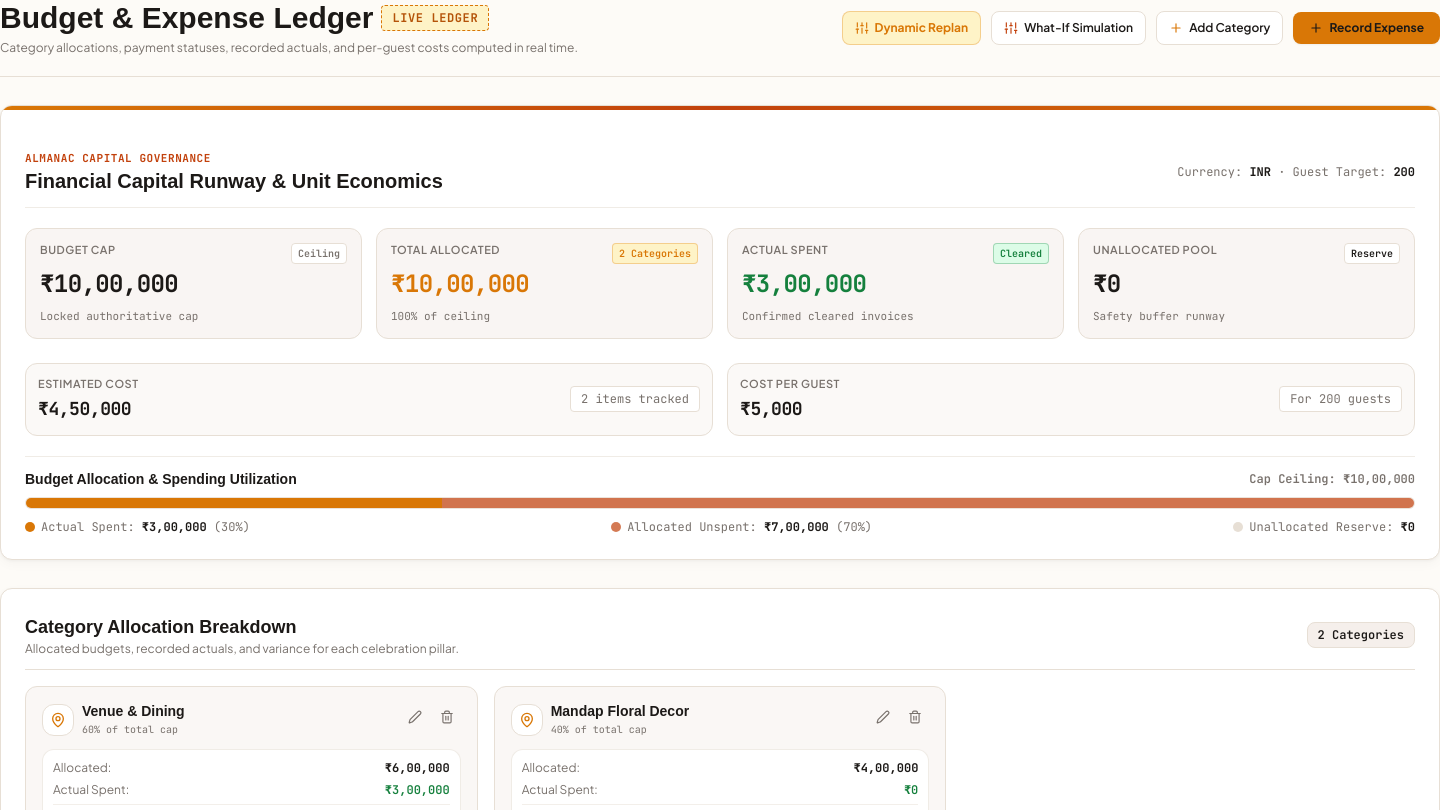
Scenario: BudgetLedgerTab Component › opens category creation modal when clicking Add Category
The image size is (1440, 810).
Click the button "Add Category" at (1220, 28), box x1=1156 y1=11 x2=1283 y2=45
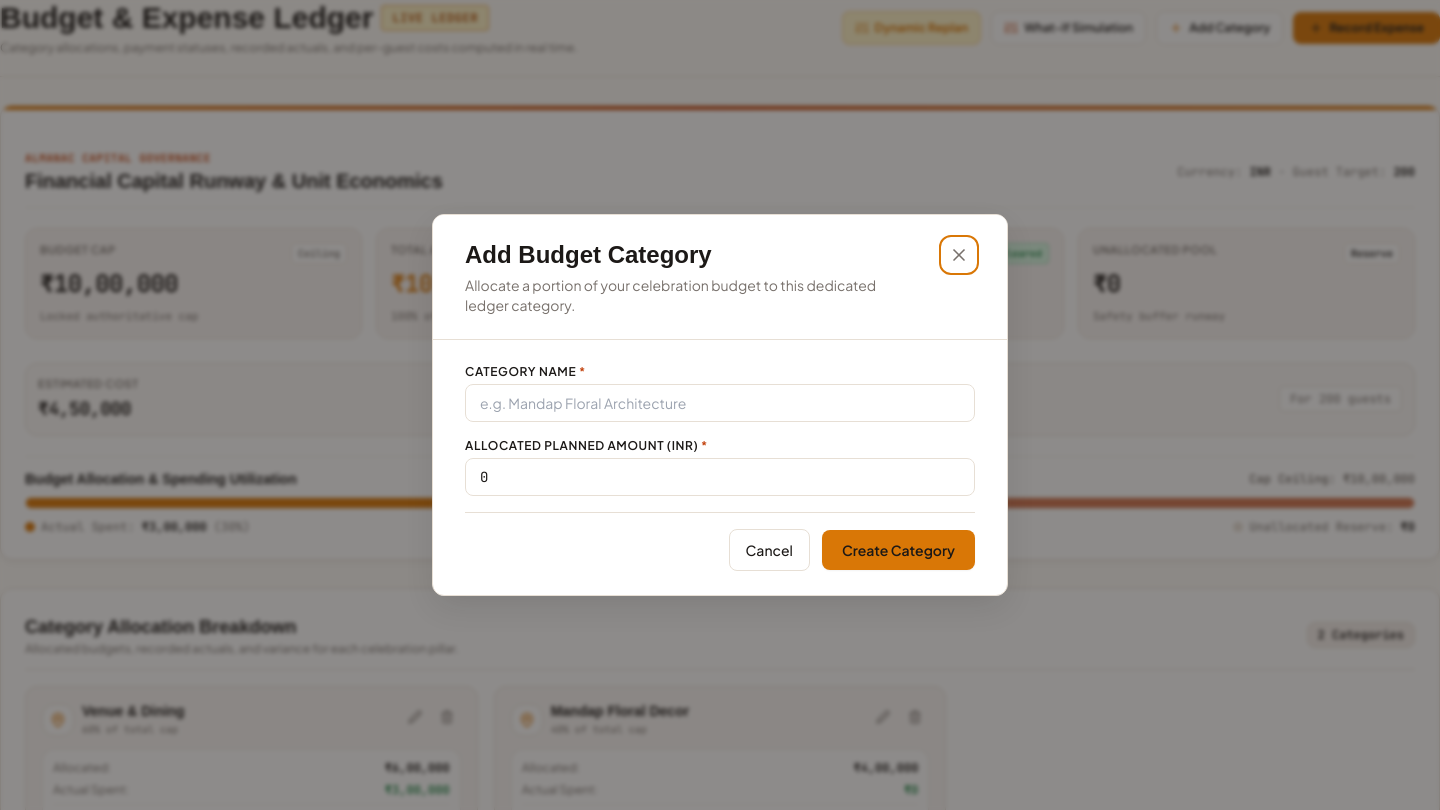
Result: the heading "Add Budget Category" is shown at x1=465 y1=241 x2=712 y2=268
